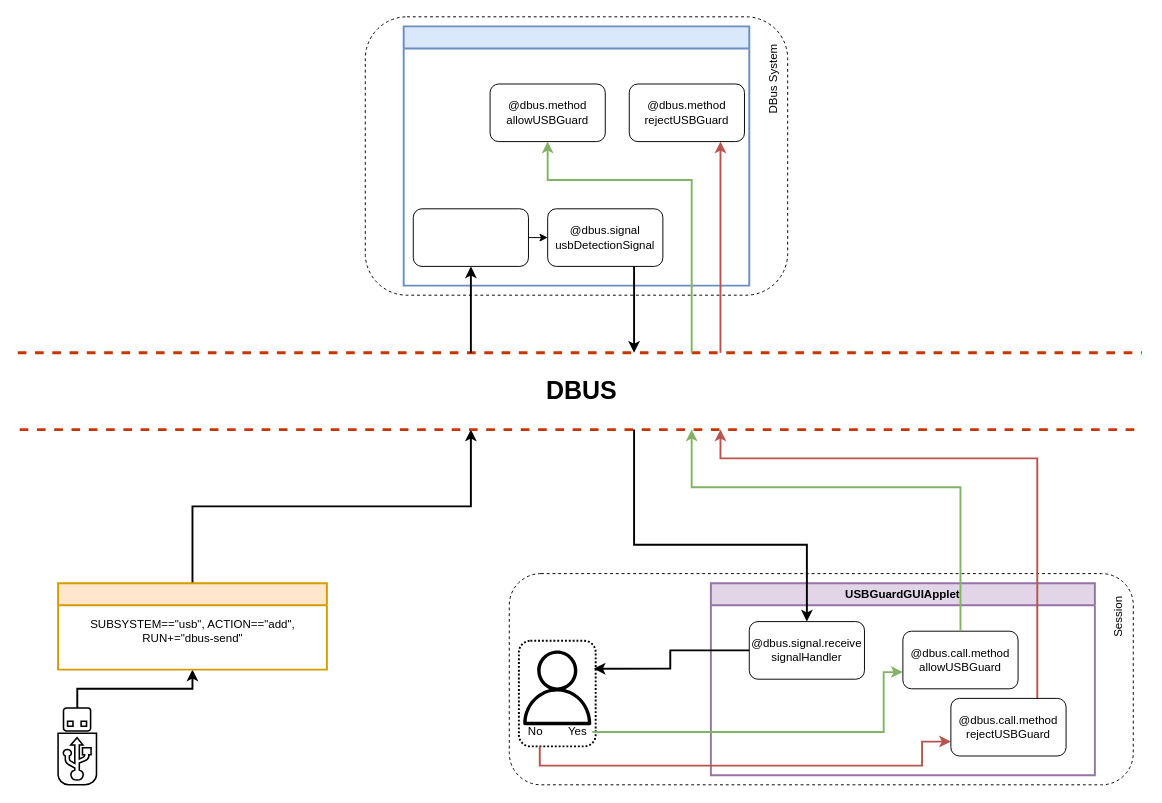
The diagram is 1162 pixels wide and 803 high, and some of its shapes have lost their labels. Here are the shapes that lost their labels. From the top down, the box of each, then its label:
(402, 25, 750, 286): USBGuardGUIDBus
(412, 208, 528, 266): @dbus.method usbDetected
(57, 582, 327, 670): USBGuardGUI UDEV Rules
